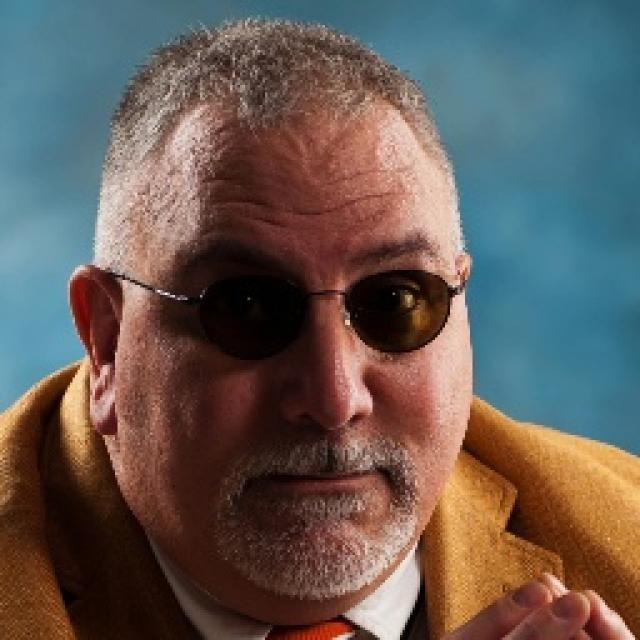glasses: (116, 250, 488, 361)
